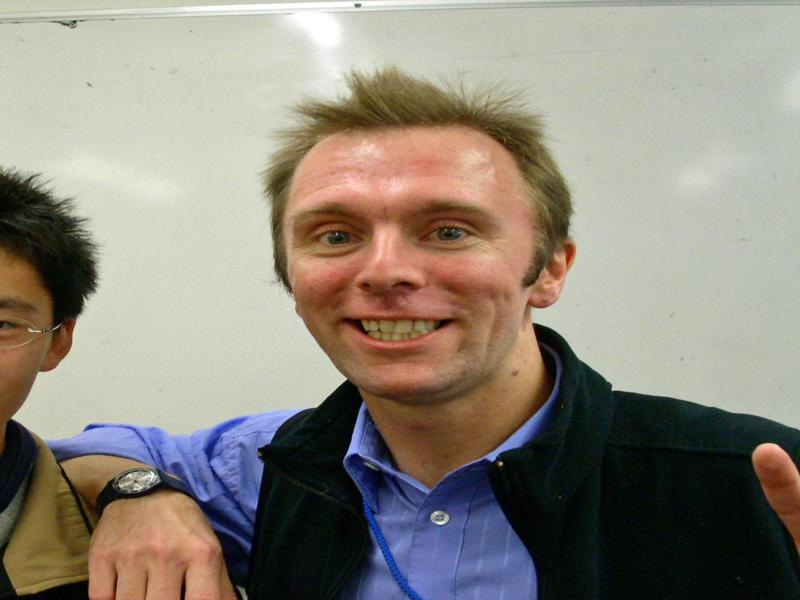person: (87, 62, 795, 600), (1, 161, 111, 600)
